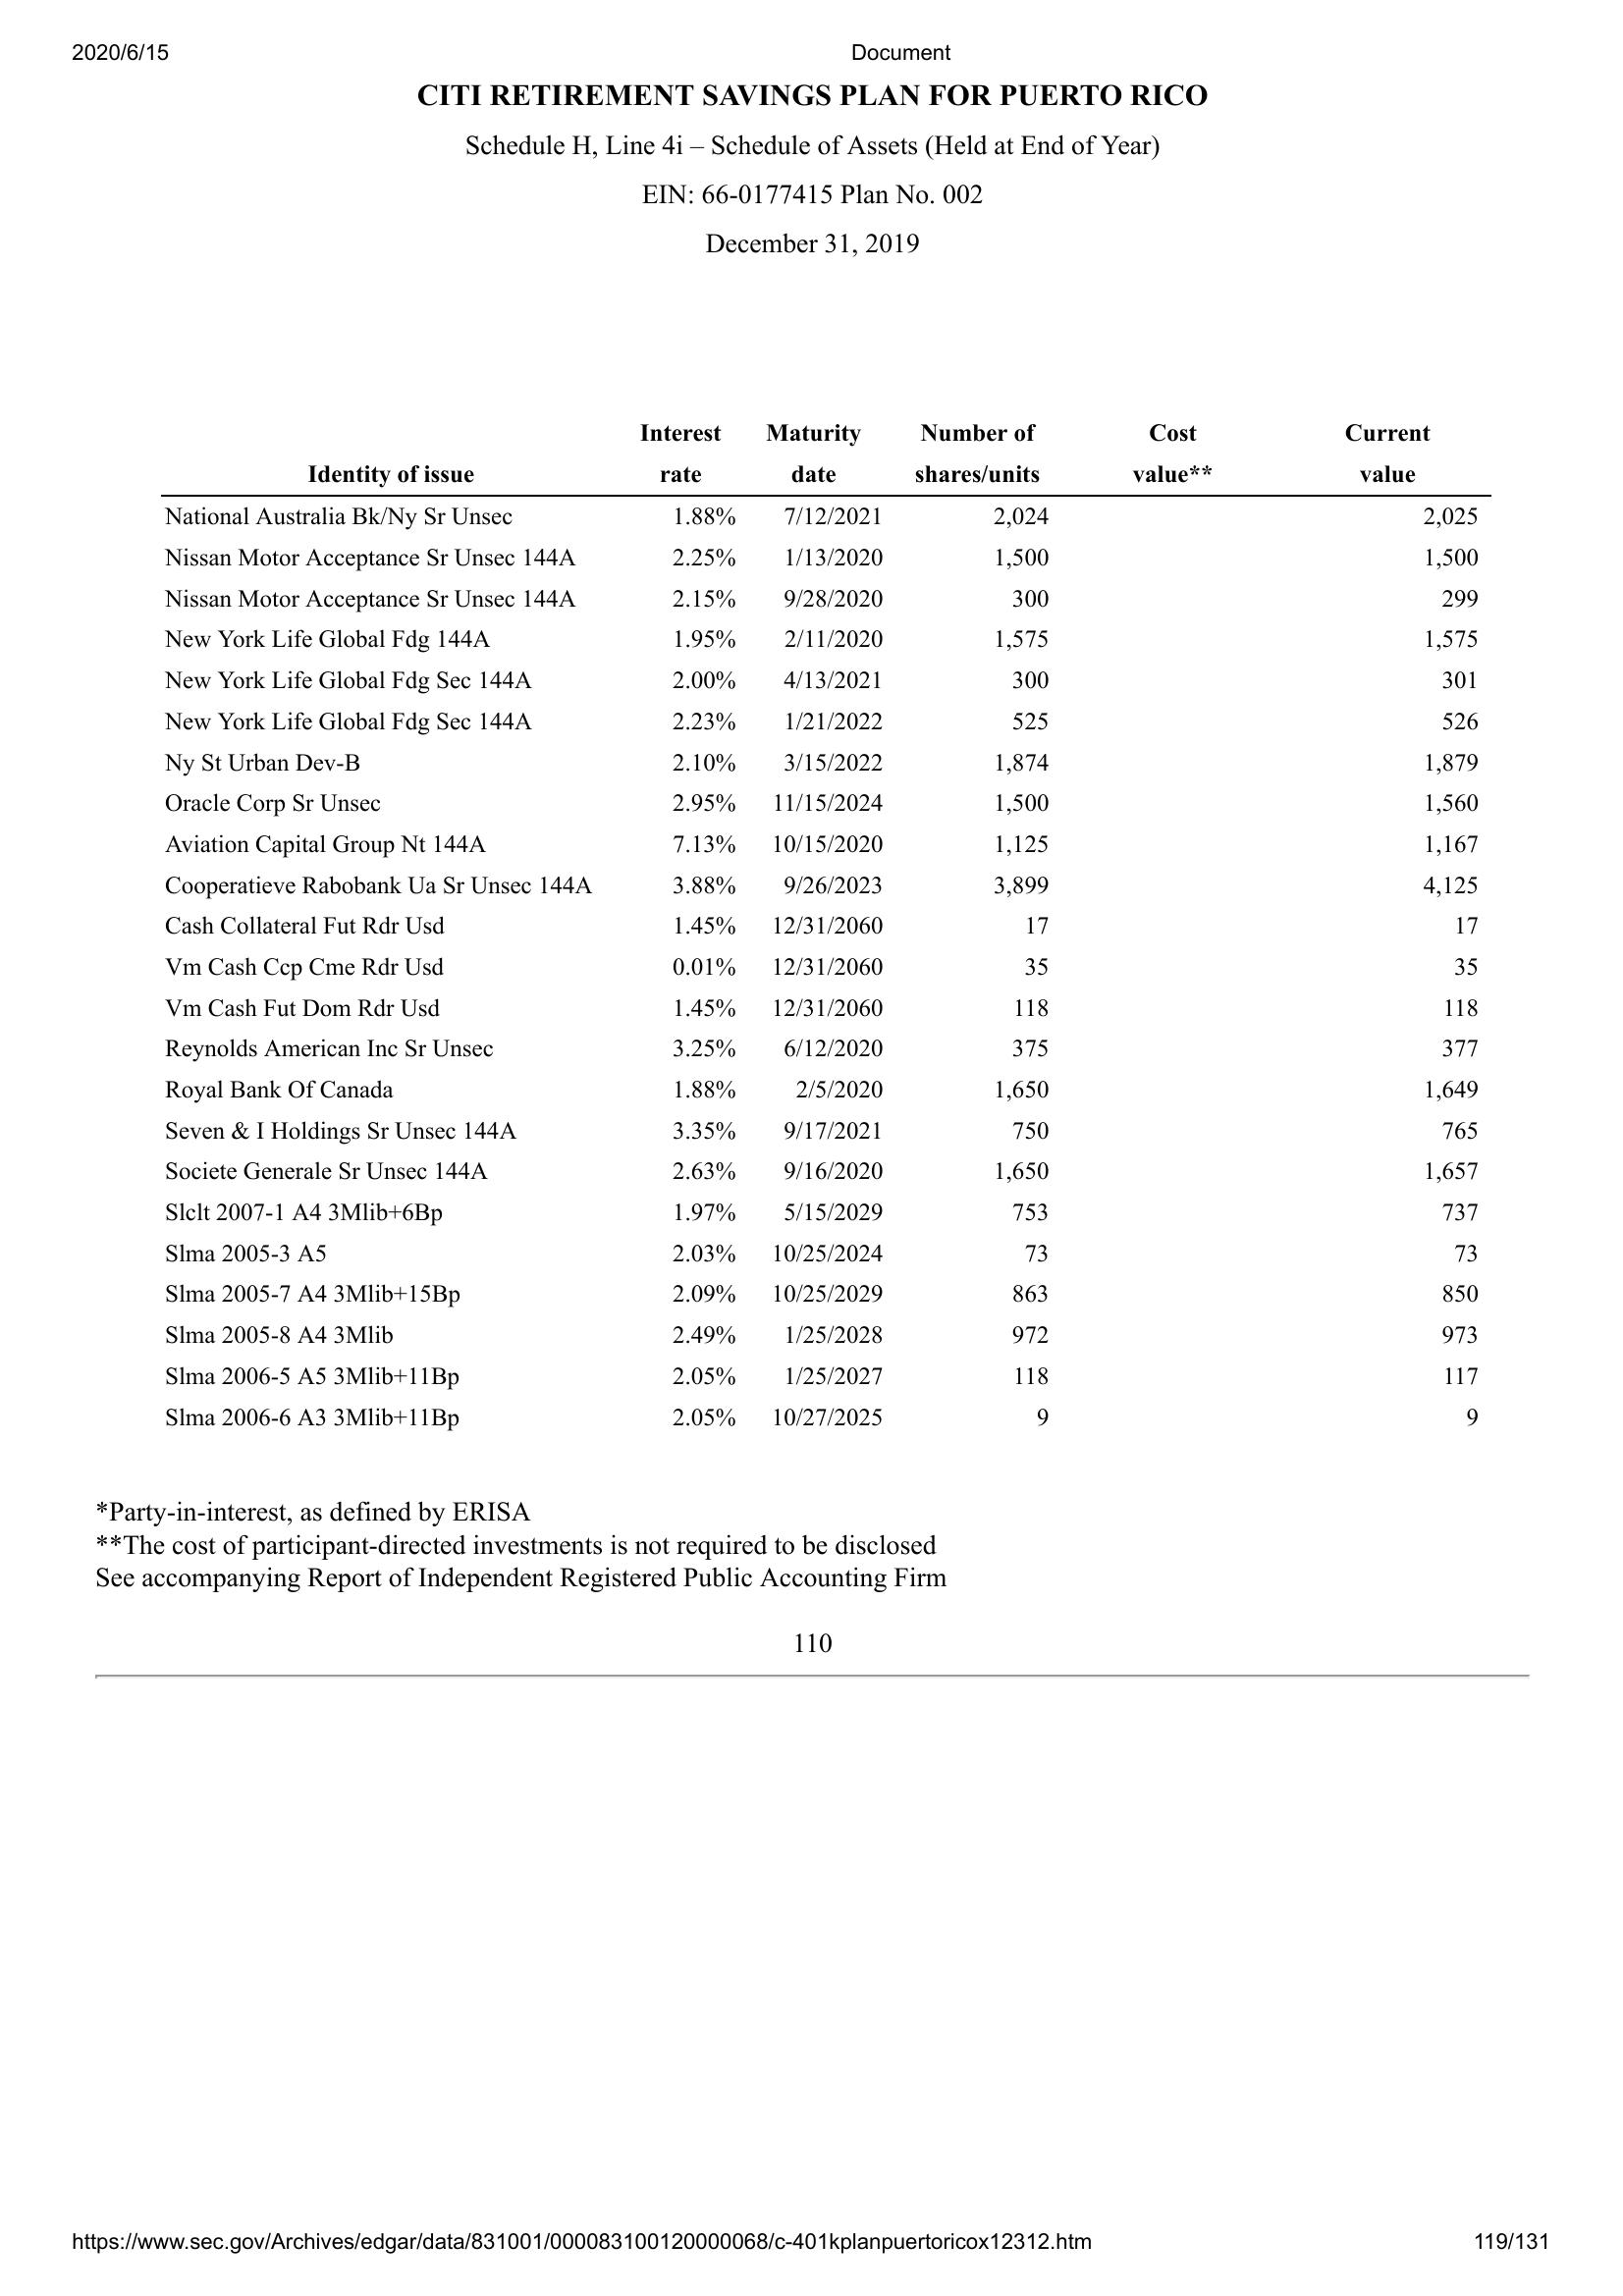table: (158, 418, 1493, 1436)
